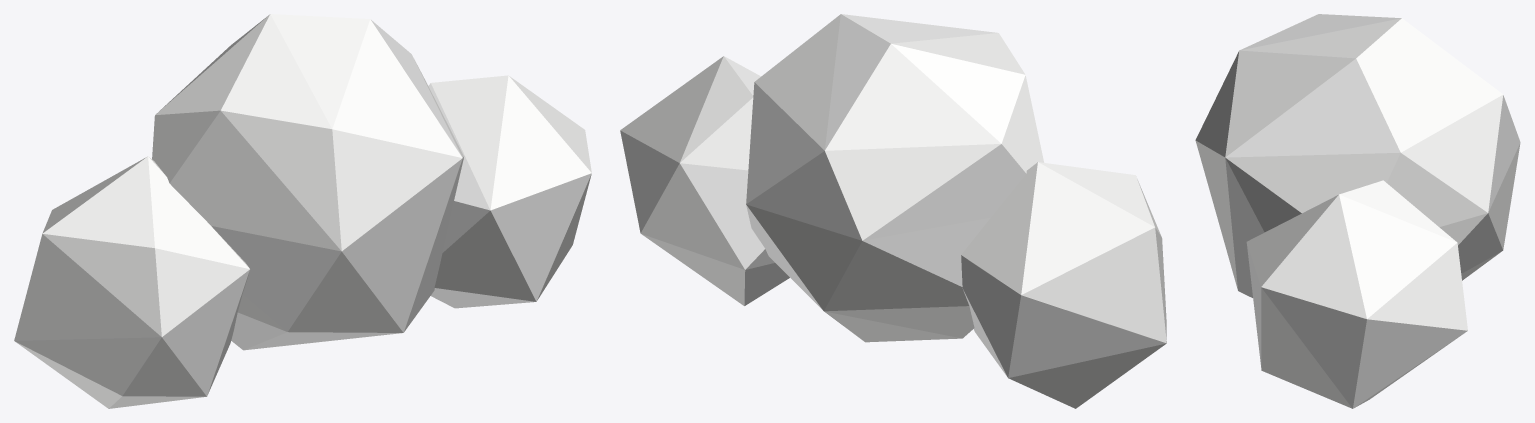
The model's file is Cloud_v10.fbx.
3 views of the same model, side by side, from view 1: azimuth 30°, elevation 25°; view 2: azimuth 150°, elevation 25°; view 3: azimuth 270°, elevation 25° (orthographic). The views are drawn at different scales.
Visible parts, largest first — view 1: Cloud_v10; view 2: Cloud_v10; view 3: Cloud_v10.
Part boxes in pixels (x1,y1,x2,y2): Cloud_v10: (14, 14, 591, 408); Cloud_v10: (620, 14, 1166, 408); Cloud_v10: (1195, 14, 1520, 408).
Bounding box in the file's own units: 34.08 × 19.68 × 17.98.
Materials: 1 (1 with a texture image).
